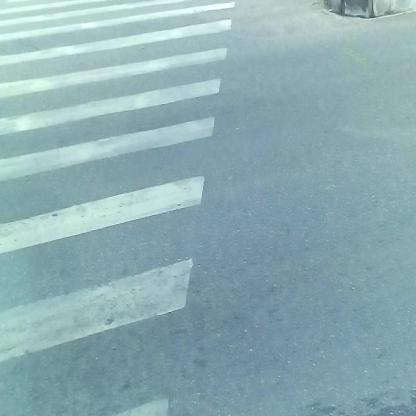crosswalk: (1, 3, 238, 407)
